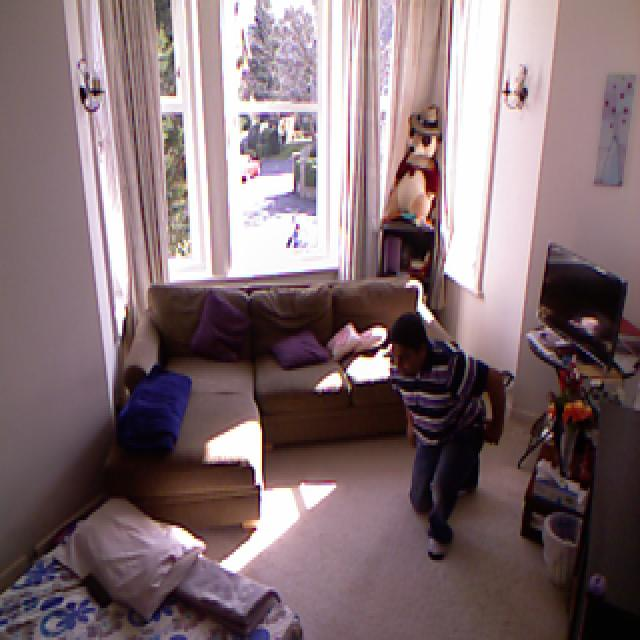bending: (370, 301, 522, 567)
